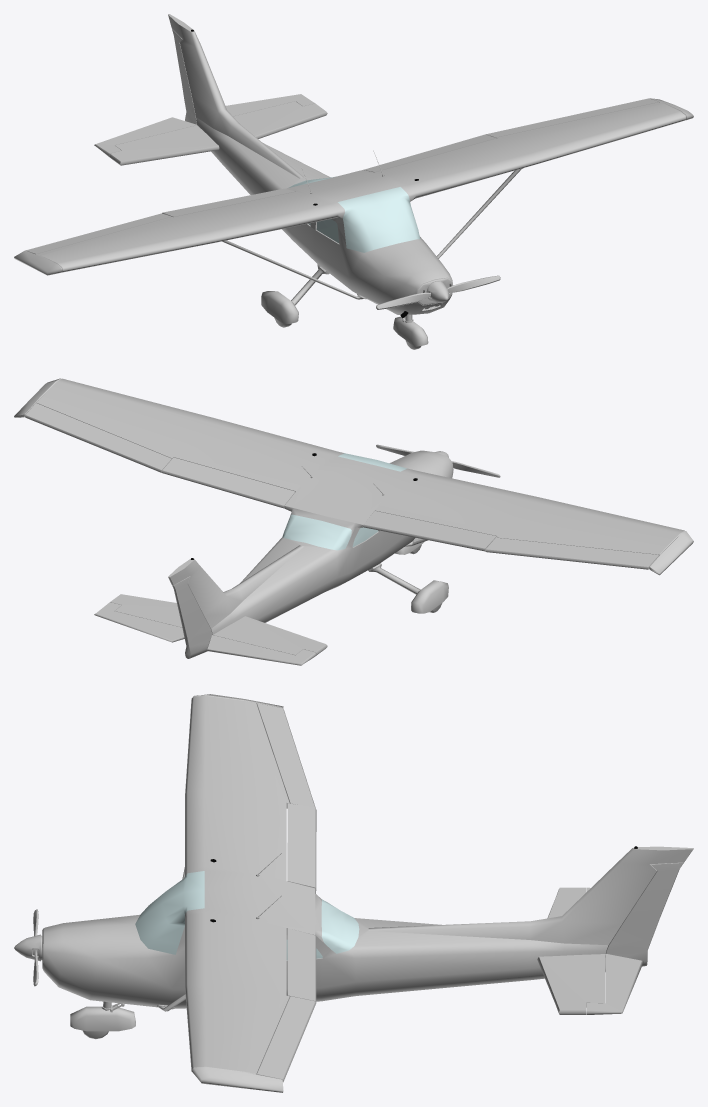
Rendered from Sky_Eagle_Exterior.fbx.
3 renders of one model, top to bottom at view 1: azimuth 30°, elevation 25°; view 2: azimuth 150°, elevation 25°; view 3: azimuth 270°, elevation 25°, orthographic. The views are drawn at different scales.
Parts seen in each view (by area): view 1: Fuselage, Prop, Rt_Elevator, Lt_Outboard_Flap, Rt_Outboard_Flap, Lt_Inboard_Flap, Rt_Inboard_Flap, Lt_Elevator, Stabilizer; view 2: Fuselage, Rt_Outboard_Flap, Lt_Outboard_Flap, Lt_Inboard_Flap, Rt_Inboard_Flap, Stabilizer, Rt_Elevator, Lt_Elevator, Prop; view 3: Fuselage, Stabilizer, Rt_Outboard_Flap, Rt_Inboard_Flap, Lt_Outboard_Flap, Lt_Inboard_Flap, Lt_Elevator, Prop.
Boxes of the visible parts, box(x1,y1,x2,y2) form: Fuselage: box(14, 14, 693, 346); Prop: box(376, 275, 500, 309); Rt_Elevator: box(94, 117, 196, 156); Lt_Outboard_Flap: box(486, 98, 658, 137); Rt_Outboard_Flap: box(25, 213, 171, 254); Lt_Inboard_Flap: box(363, 134, 496, 172); Rt_Inboard_Flap: box(162, 188, 295, 216); Lt_Elevator: box(225, 94, 314, 116); Stabilizer: box(172, 29, 196, 124); Fuselage: box(14, 378, 693, 655); Rt_Outboard_Flap: box(485, 537, 659, 569); Lt_Outboard_Flap: box(25, 403, 171, 472); Lt_Inboard_Flap: box(162, 457, 295, 508); Rt_Inboard_Flap: box(363, 511, 496, 551); Stabilizer: box(172, 576, 212, 658); Rt_Elevator: box(207, 635, 316, 665); Lt_Elevator: box(94, 602, 184, 642); Prop: box(376, 444, 500, 477); Fuselage: box(42, 694, 693, 1092); Stabilizer: box(605, 862, 683, 971); Rt_Outboard_Flap: box(257, 703, 315, 808); Rt_Inboard_Flap: box(287, 803, 316, 889); Lt_Outboard_Flap: box(257, 996, 316, 1082); Lt_Inboard_Flap: box(287, 928, 316, 1002); Lt_Elevator: box(586, 954, 643, 1014); Prop: box(14, 909, 42, 986).
Size of the model in its own units: 10.93 by 2.53 by 8.16.
